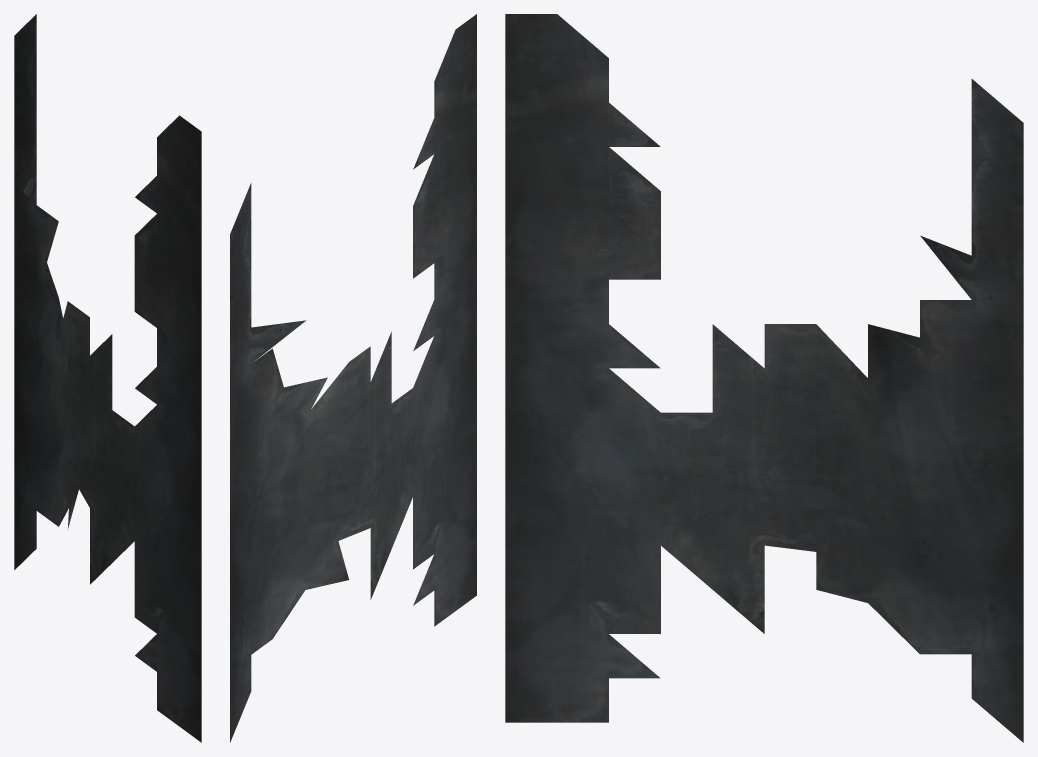
The model's file is hd_dec_UNI_015_Oilcloth_Damaged04_anim.glb.
3 renders of one model, left to right at view 1: azimuth 30°, elevation 25°; view 2: azimuth 150°, elevation 25°; view 3: azimuth 270°, elevation 25°, orthographic. The views are drawn at different scales.
Parts seen in each view (by area): view 1: set_1_group_0, set_0_group_0; view 2: set_1_group_0, set_0_group_0; view 3: set_1_group_0, set_0_group_0.
Boxes of the visible parts, left/top/right/bottom form: set_1_group_0: left=14, top=14, right=201, bottom=742; set_0_group_0: left=134, top=115, right=201, bottom=360; set_1_group_0: left=230, top=183, right=476, bottom=742; set_0_group_0: left=413, top=14, right=476, bottom=278; set_1_group_0: left=505, top=79, right=1023, bottom=742; set_0_group_0: left=505, top=14, right=660, bottom=279.
Bounding box in the file's own units: 0.394 × 6.43 × 4.26.
Materials: 2 (2 with a texture image).
